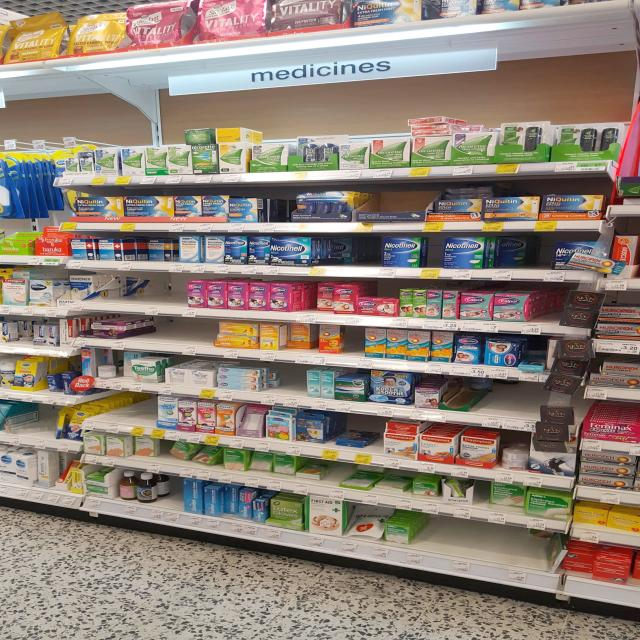empty_space: (430, 526, 550, 558), (486, 382, 540, 415), (155, 318, 221, 345), (496, 239, 549, 265), (143, 277, 185, 301), (337, 240, 379, 264), (128, 389, 156, 421), (373, 194, 421, 210), (36, 410, 57, 440), (340, 417, 372, 431), (269, 198, 290, 219), (166, 490, 186, 506)
